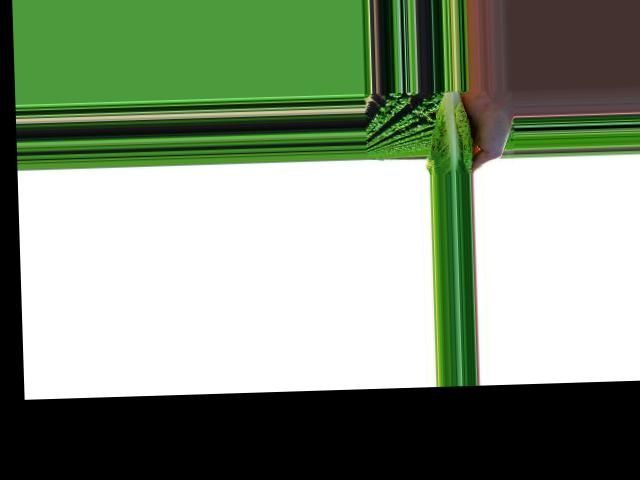lettuce: (426, 89, 473, 172)
